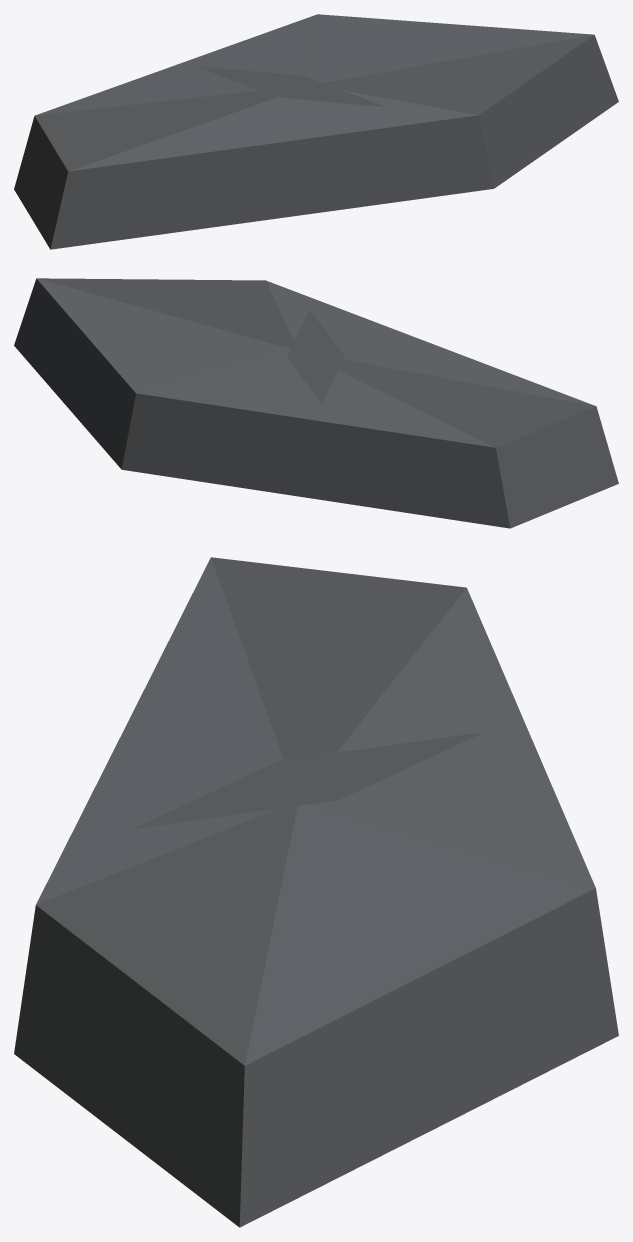
Rendered from SM_Arena_Slab_C.fbx.
3 renders of one model, top to bottom at view 1: azimuth 30°, elevation 25°; view 2: azimuth 150°, elevation 25°; view 3: azimuth 270°, elevation 25°, orthographic. The views are drawn at different scales.
Parts seen in each view (by area): view 1: SM_Arena_Slab_C; view 2: SM_Arena_Slab_C; view 3: SM_Arena_Slab_C.
Part boxes in pixels (x1=…): SM_Arena_Slab_C: x1=14, y1=14, x2=618, y2=249; SM_Arena_Slab_C: x1=14, y1=278, x2=618, y2=528; SM_Arena_Slab_C: x1=14, y1=557, x2=618, y2=1227.
Bounding box in the file's own units: 1.18 × 0.152 × 0.5485.
